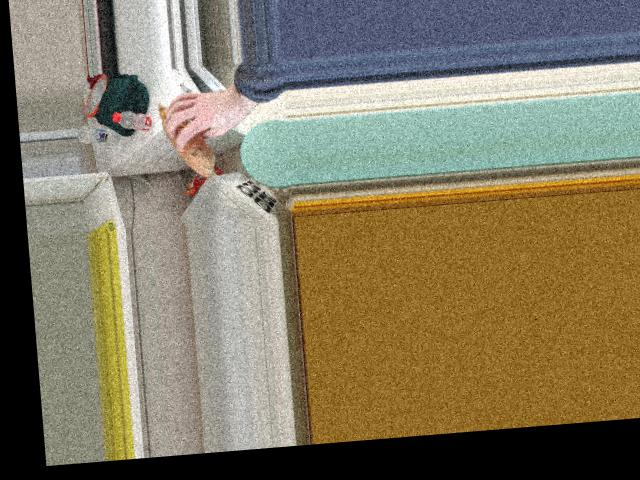sweet_potato: (160, 96, 216, 177)
